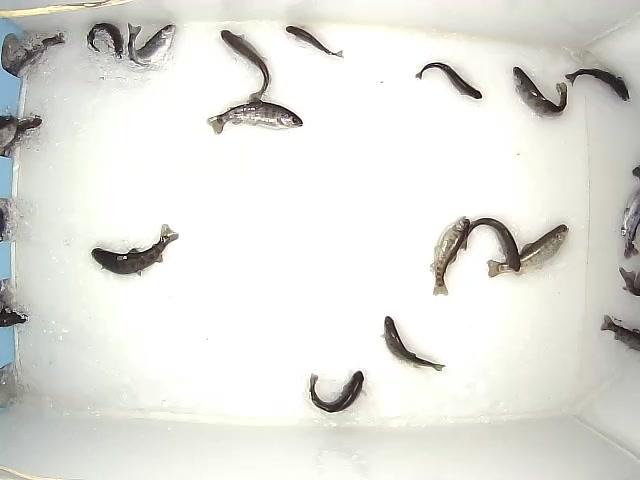fish: (90, 222, 180, 280), (487, 222, 570, 278), (379, 315, 446, 373), (220, 28, 271, 104), (457, 217, 521, 273), (429, 215, 471, 298), (206, 103, 305, 136), (512, 65, 567, 119), (414, 62, 483, 100), (308, 370, 367, 413), (126, 19, 177, 67), (285, 25, 346, 61), (565, 68, 635, 97), (86, 22, 125, 60), (622, 182, 640, 259)
